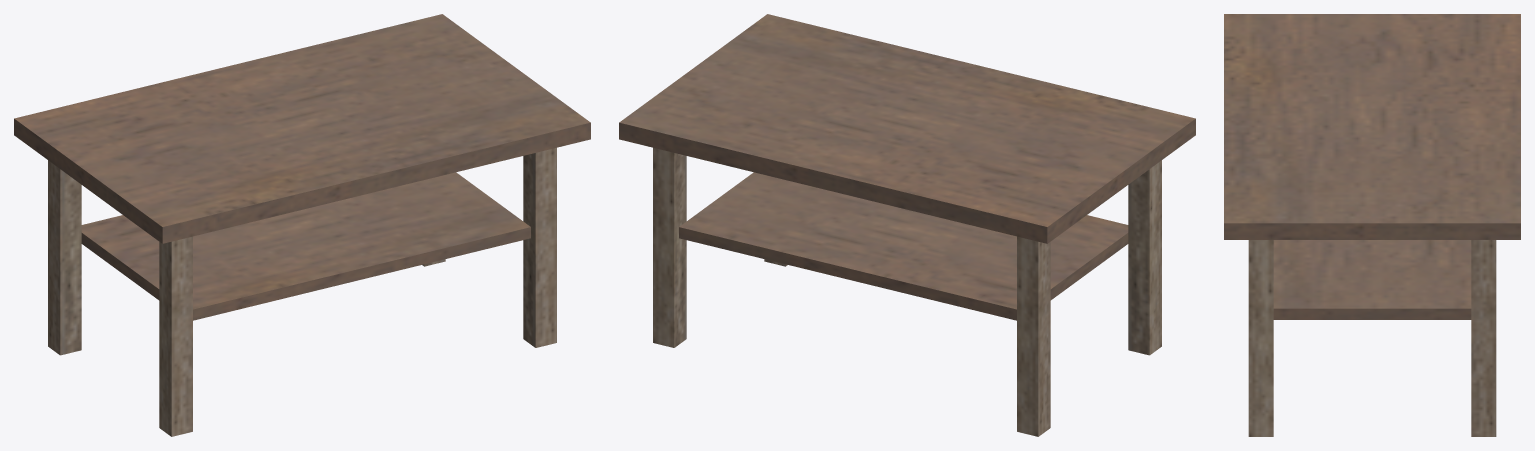
Rendered from Table01.obj.
The picture shows the model from 3 angles, left to right: view 1: azimuth 30°, elevation 25°; view 2: azimuth 150°, elevation 25°; view 3: azimuth 270°, elevation 25°; orthographic projection.
Parts seen in each view (by area): view 1: Table01; view 2: Table01; view 3: Table01.
Boxes of the visible parts, x1,y1,x2,y2 form: Table01: (14,14,590,436); Table01: (619,14,1195,436); Table01: (1224,14,1520,436).
Bounding box in the file's own units: 2 × 1 × 1.2.
